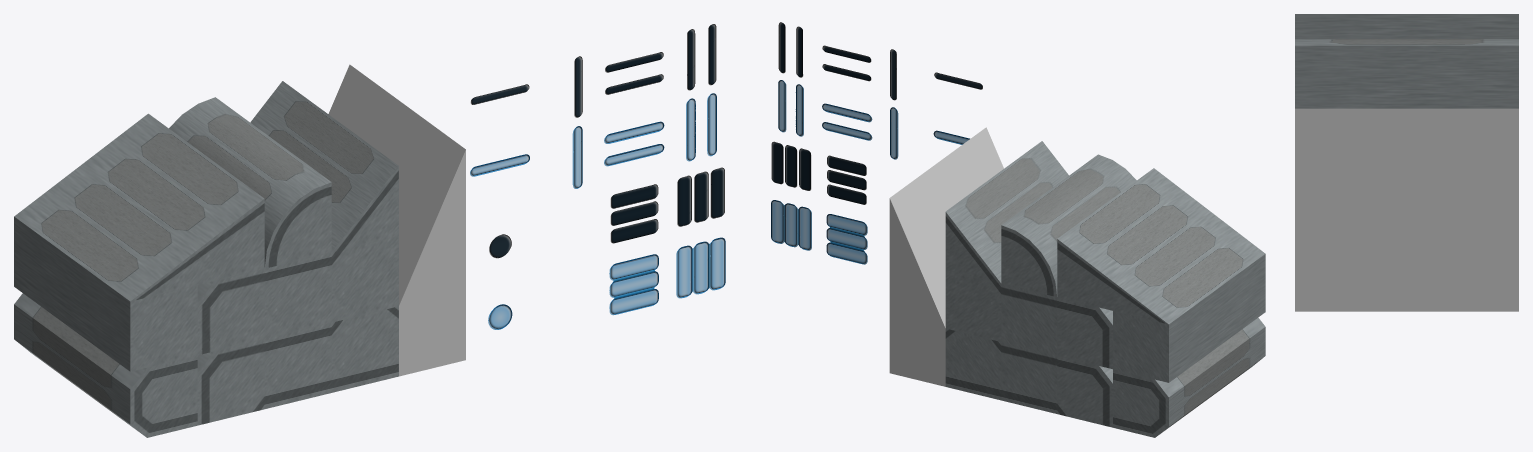
File: Environment Blocks 2.fbx
The picture shows the model from 3 angles, left to right: view 1: azimuth 30°, elevation 25°; view 2: azimuth 150°, elevation 25°; view 3: azimuth 270°, elevation 25°; orthographic projection. The views are drawn at different scales.
Visible parts, largest first — view 1: Environment_Tri_H, Environment_Tri_V, Environment_Cube_Center, Evironment_Circle_Quarter4, Environment_Tri_S, Environment_Cube_Beam_Cap, Environment_Cube_Edge, Environment_Cube_Beam_Corner, Environment_Cube_Corner, Environment_Cube_Beam, Environment_Cube_InvCorner, Environment_Cube_Beam_T (+9 smaller); view 2: Environment_Tri_H, Environment_Tri_V, Environment_Cube_Center, Evironment_Circle_Quarter4, Environment_Tri_S, Environment_Cube_Beam_Cap, Environment_Cube_InvCorner, Environment_Cube_Beam, Environment_Cube_Beam_Cross, Environment_Cube_Edge, Environment_Cube_Beam_T, Environment_Cube_Corner (+9 smaller); view 3: Environment_Tri_V, Environment_Cube_Beam_Cross, Evironment_Circle_Quarter4, Environment_Tri_S, Environment_Tri_H.
Part boxes in pixels (left/top/right/bottom): Environment_Tri_H: left=14, top=113, right=264, bottom=301; Environment_Tri_V: left=328, top=64, right=465, bottom=306; Environment_Cube_Center: left=14, top=216, right=197, bottom=371; Evironment_Circle_Quarter4: left=169, top=97, right=331, bottom=268; Environment_Tri_S: left=250, top=81, right=398, bottom=252; Environment_Cube_Beam_Cap: left=14, top=293, right=197, bottom=437; Environment_Cube_Edge: left=264, top=252, right=331, bottom=338; Environment_Cube_Beam_Corner: left=197, top=339, right=264, bottom=425; Environment_Cube_Corner: left=197, top=269, right=264, bottom=355; Environment_Cube_Beam: left=264, top=323, right=331, bottom=408; Environment_Cube_InvCorner: left=331, top=236, right=398, bottom=322; Environment_Cube_Beam_T: left=331, top=306, right=398, bottom=392; Environment_Tri_H: left=1057, top=168, right=1265, bottom=324; Environment_Tri_V: left=889, top=127, right=1003, bottom=328; Environment_Cube_Center: left=1113, top=254, right=1265, bottom=382; Evironment_Circle_Quarter4: left=1001, top=154, right=1136, bottom=296; Environment_Tri_S: left=945, top=141, right=1068, bottom=283; Environment_Cube_Beam_Cap: left=1113, top=317, right=1265, bottom=437; Environment_Cube_InvCorner: left=945, top=270, right=1001, bottom=341; Environment_Cube_Beam: left=1001, top=342, right=1057, bottom=413; Environment_Cube_Beam_Cross: left=889, top=315, right=945, bottom=386; Environment_Cube_Edge: left=1001, top=283, right=1057, bottom=355; Environment_Cube_Beam_T: left=945, top=328, right=1001, bottom=400; Environment_Cube_Corner: left=1057, top=297, right=1112, bottom=369; Environment_Tri_V: left=1295, top=108, right=1518, bottom=243; Environment_Cube_Beam_Cross: left=1295, top=244, right=1518, bottom=311; Evironment_Circle_Quarter4: left=1295, top=39, right=1518, bottom=76; Environment_Tri_S: left=1295, top=77, right=1518, bottom=108; Environment_Tri_H: left=1295, top=14, right=1518, bottom=38.
Bounding box in the file's own units: 9 × 4 × 3.01.
